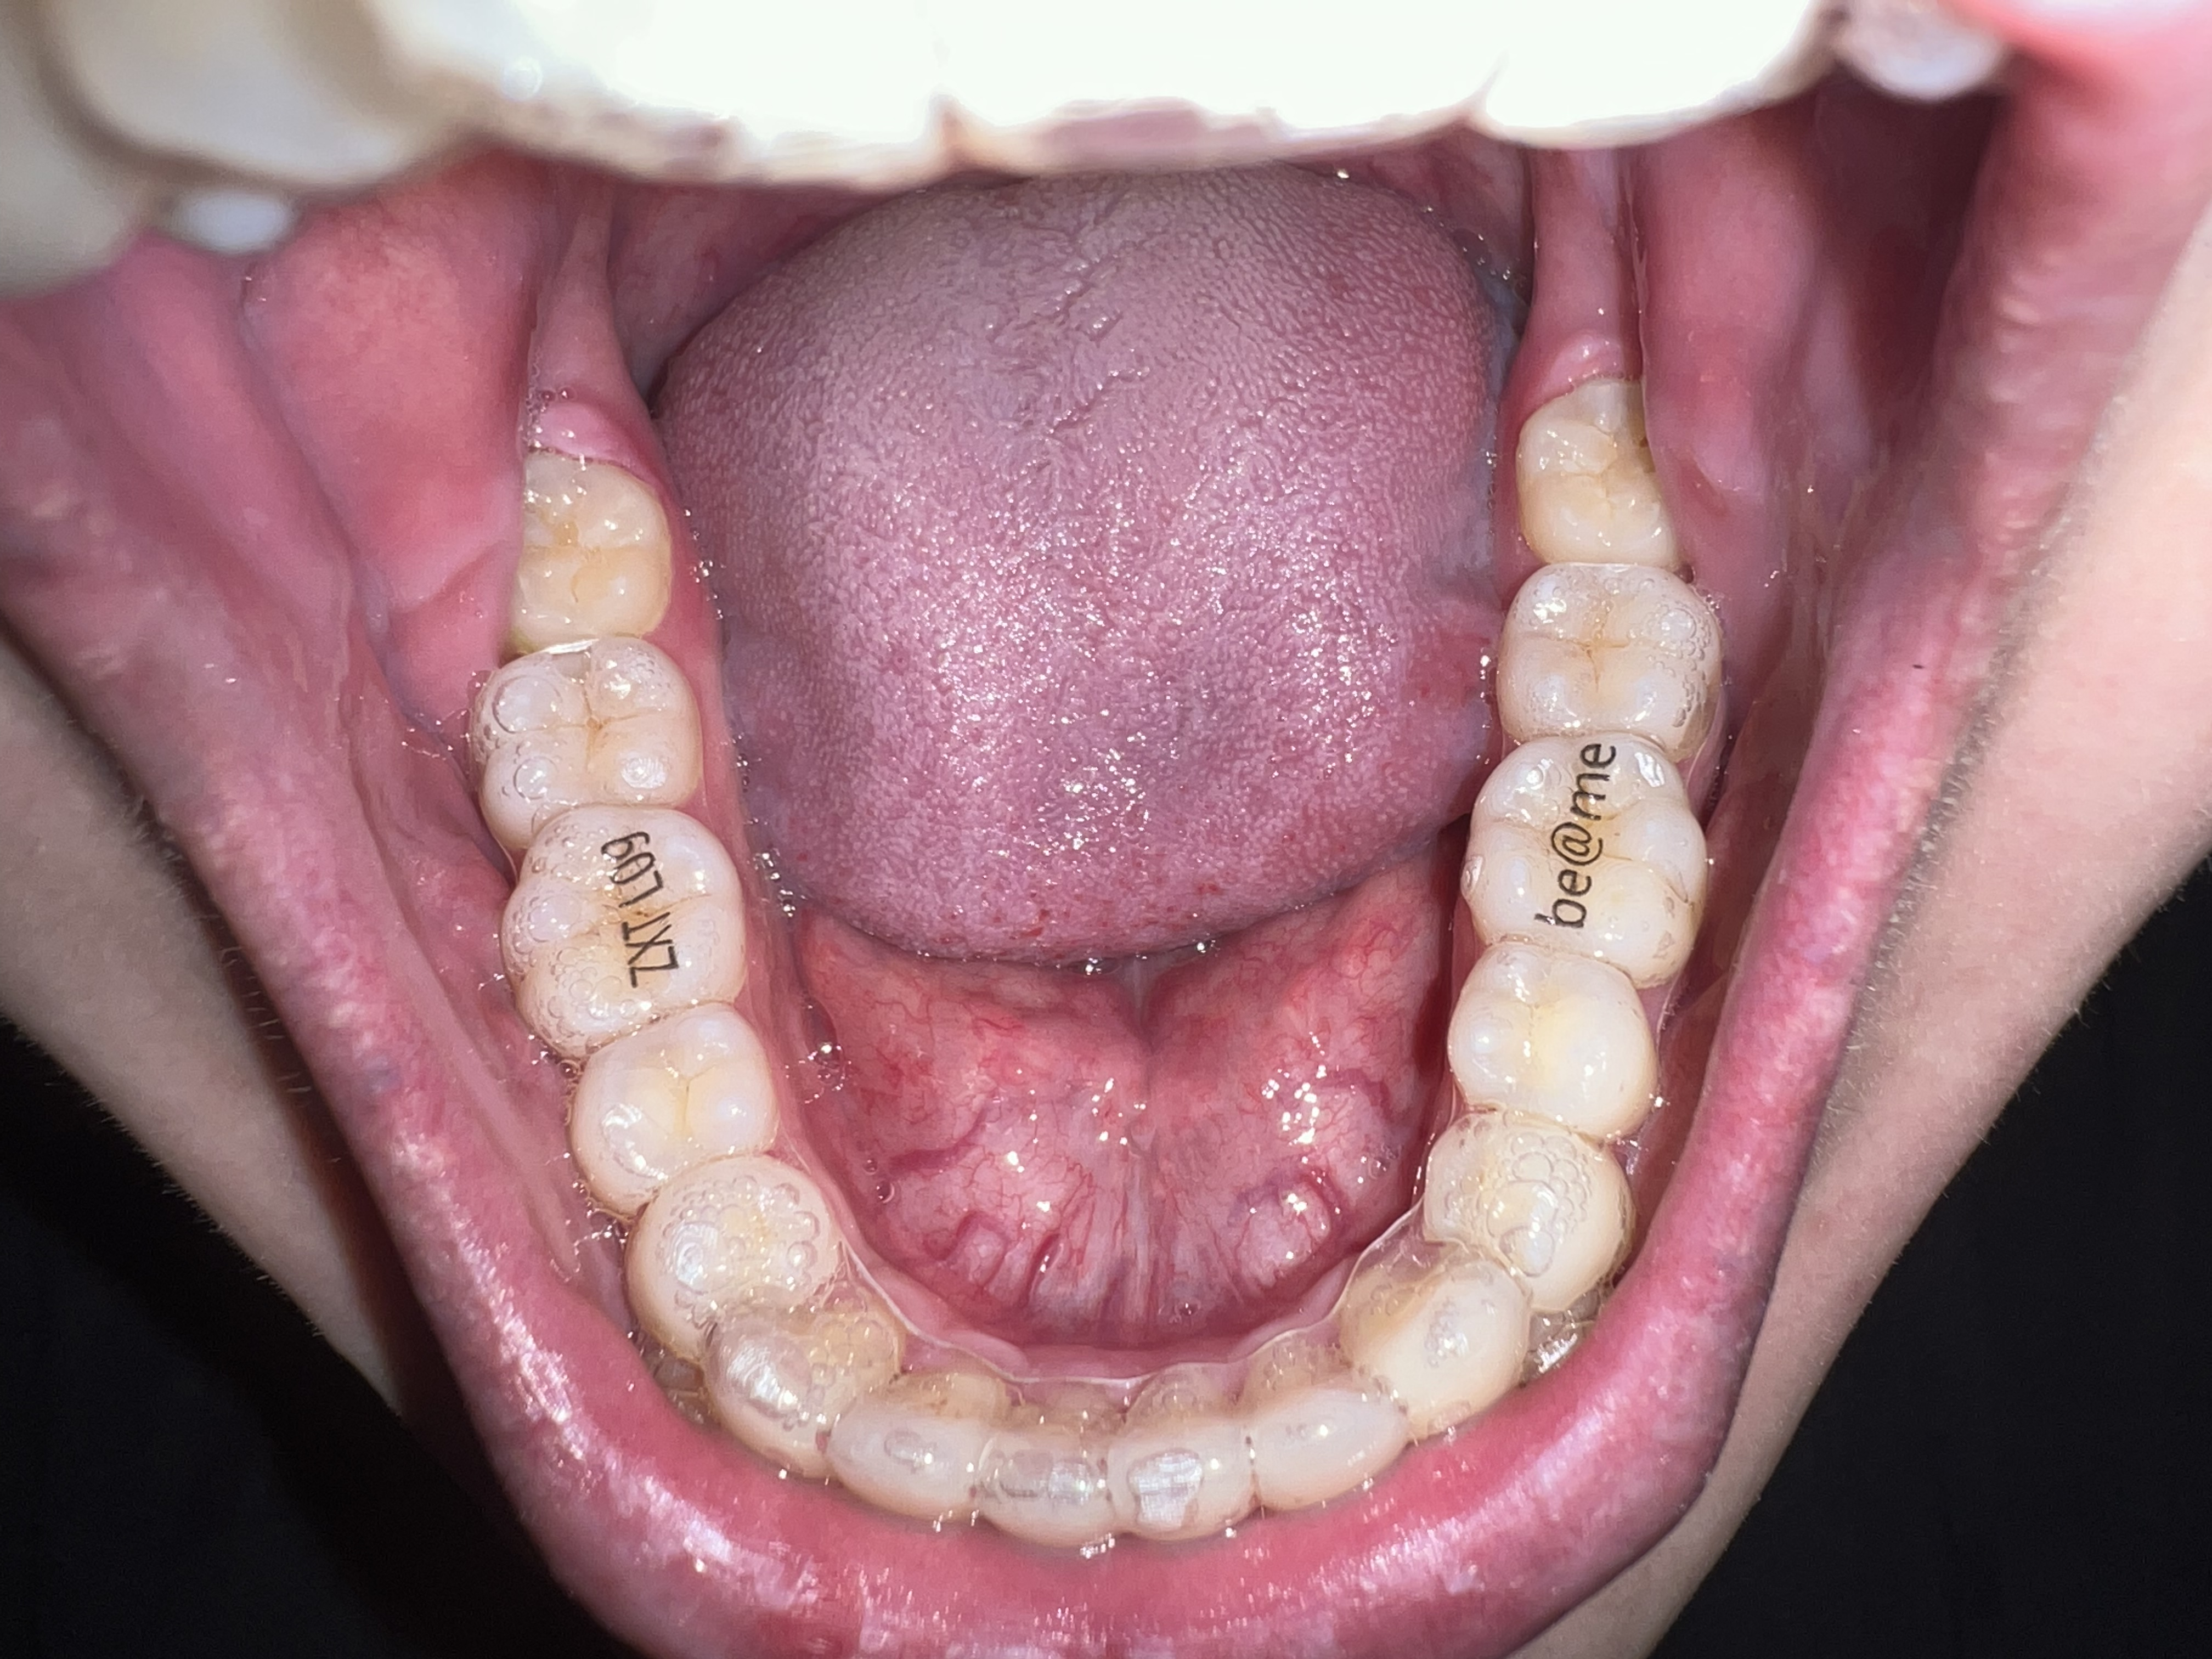teeth: (507, 842, 745, 1044), (1491, 577, 1712, 767), (1494, 755, 1683, 965), (622, 1168, 824, 1351), (1433, 1121, 1630, 1293), (1458, 950, 1648, 1127), (489, 653, 693, 819), (1345, 1260, 1529, 1432), (505, 458, 655, 638), (705, 1317, 881, 1469), (1251, 1345, 1406, 1504), (827, 1375, 1007, 1511), (599, 1014, 756, 1162), (1120, 1368, 1252, 1532), (1554, 394, 1677, 540), (996, 1399, 1116, 1544)
